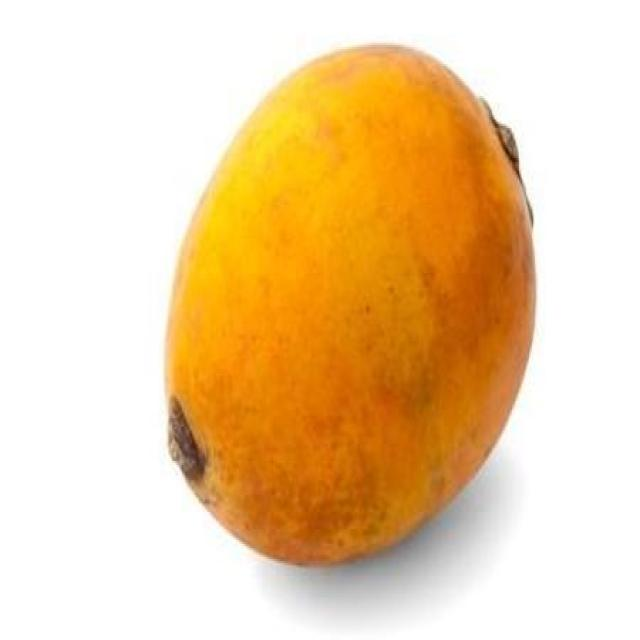good: (165, 45, 539, 570)
